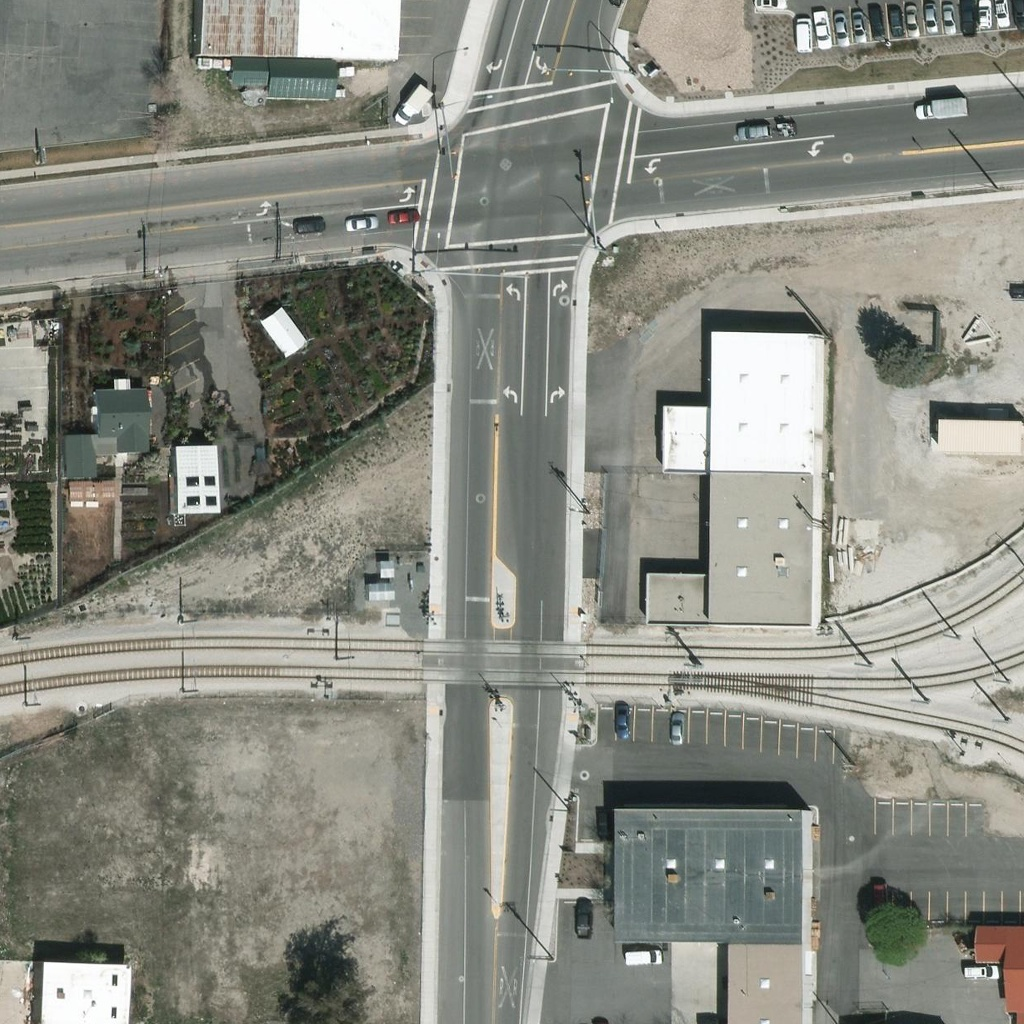car: (735, 121, 772, 141), (344, 211, 378, 232), (750, 1, 784, 19), (832, 10, 849, 46), (575, 900, 591, 938), (615, 700, 630, 740), (386, 206, 419, 224), (815, 12, 830, 51), (873, 883, 888, 920), (959, 1, 975, 35), (904, 4, 920, 38), (964, 965, 998, 981), (668, 712, 684, 745), (293, 218, 324, 235), (942, 1, 956, 34), (923, 3, 938, 33), (852, 12, 867, 42), (888, 5, 902, 36), (870, 7, 884, 38), (995, 1, 1007, 30), (979, 1, 991, 29), (603, 1, 637, 6)
van: (914, 98, 967, 122), (795, 18, 812, 51), (626, 951, 663, 964)
